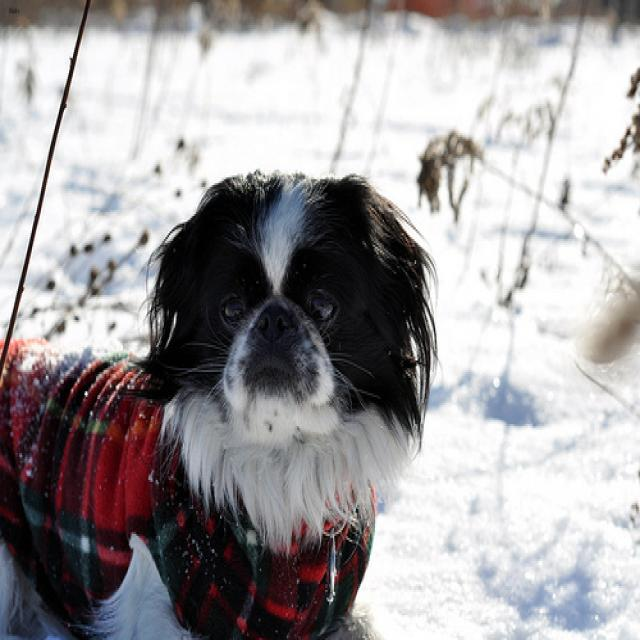dog-japanese_chin: (129, 150, 445, 553)
